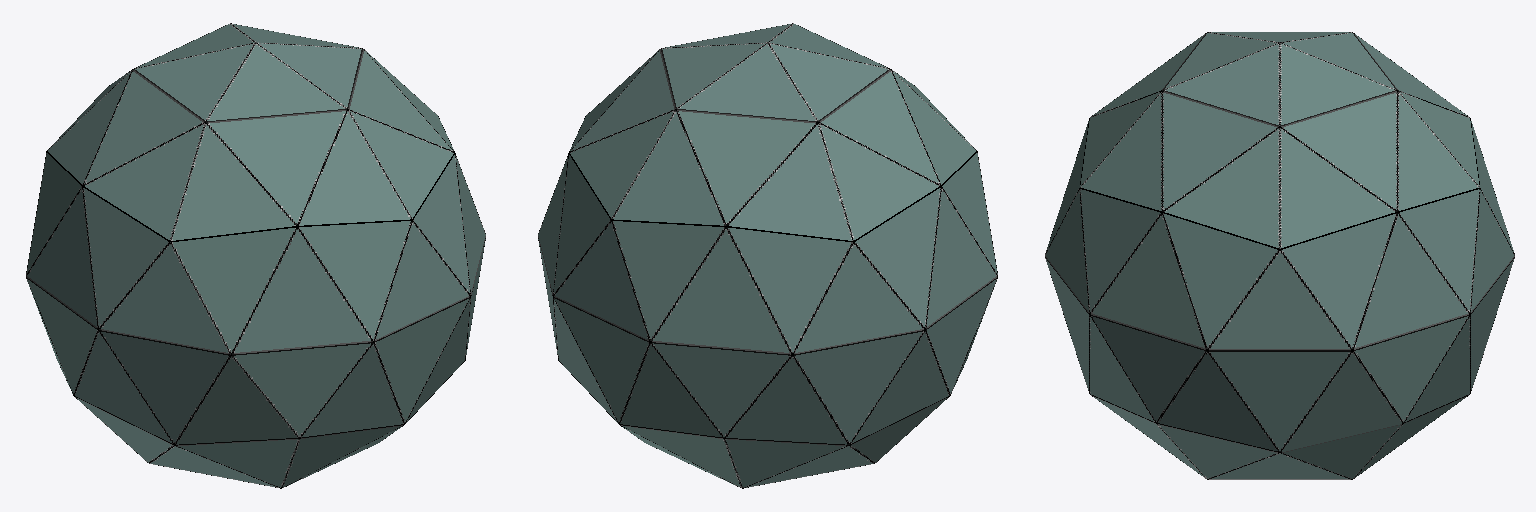
The picture shows the model from 3 angles: view 1: azimuth 30°, elevation 25°; view 2: azimuth 150°, elevation 25°; view 3: azimuth 270°, elevation 25°; orthographic projection.
Visible parts, largest first — view 1: ICO球_ICO球.001; view 2: ICO球_ICO球.001; view 3: ICO球_ICO球.001.
Boxes of the visible parts, x1,y1,x2,y2 form: ICO球_ICO球.001: [26, 23, 485, 488]; ICO球_ICO球.001: [538, 23, 997, 488]; ICO球_ICO球.001: [1045, 32, 1514, 479].
Bounding box in the file's own units: 1.9 × 2 × 2.
1 materials, 1 textured.